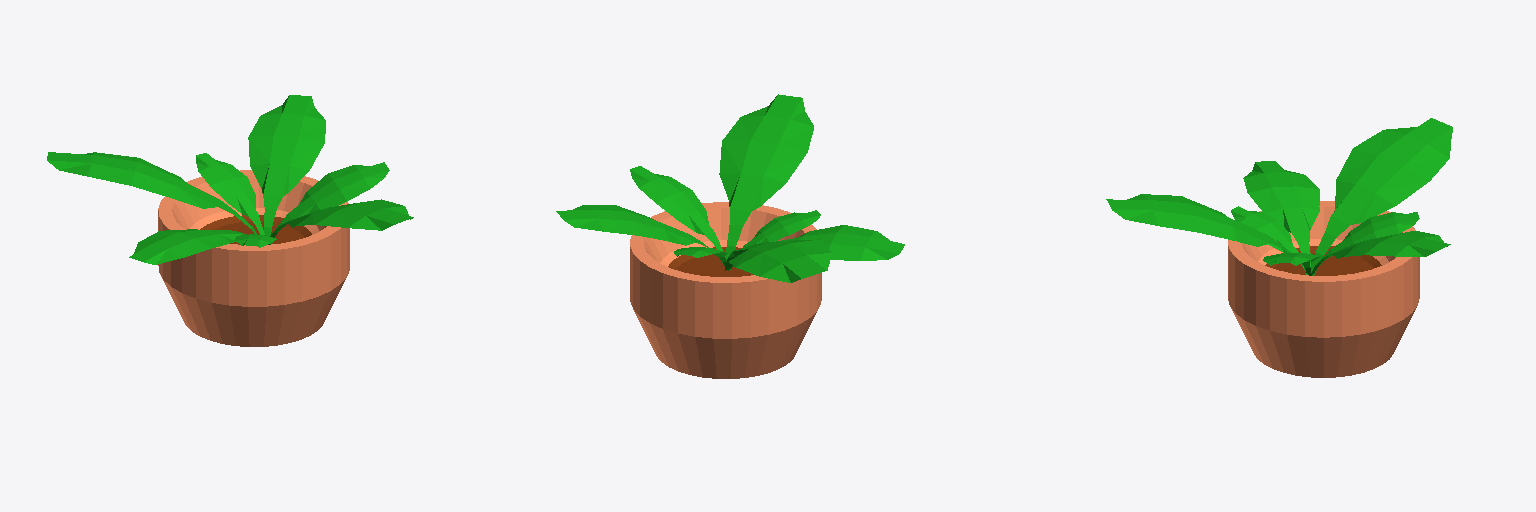
File: simplePlant.obj
The picture shows the model from 3 angles: view 1: azimuth 30°, elevation 25°; view 2: azimuth 150°, elevation 25°; view 3: azimuth 270°, elevation 25°; orthographic projection.
Visible parts, largest first — view 1: Plant1_Cylinder.001; view 2: Plant1_Cylinder.001; view 3: Plant1_Cylinder.001.
Boxes of the visible parts, x1=… form: Plant1_Cylinder.001: x1=47, y1=95, x2=413, y2=346; Plant1_Cylinder.001: x1=556, y1=94, x2=904, y2=378; Plant1_Cylinder.001: x1=1106, y1=118, x2=1452, y2=377.
Bounding box in the file's own units: 0.5413 × 0.3169 × 0.6078.